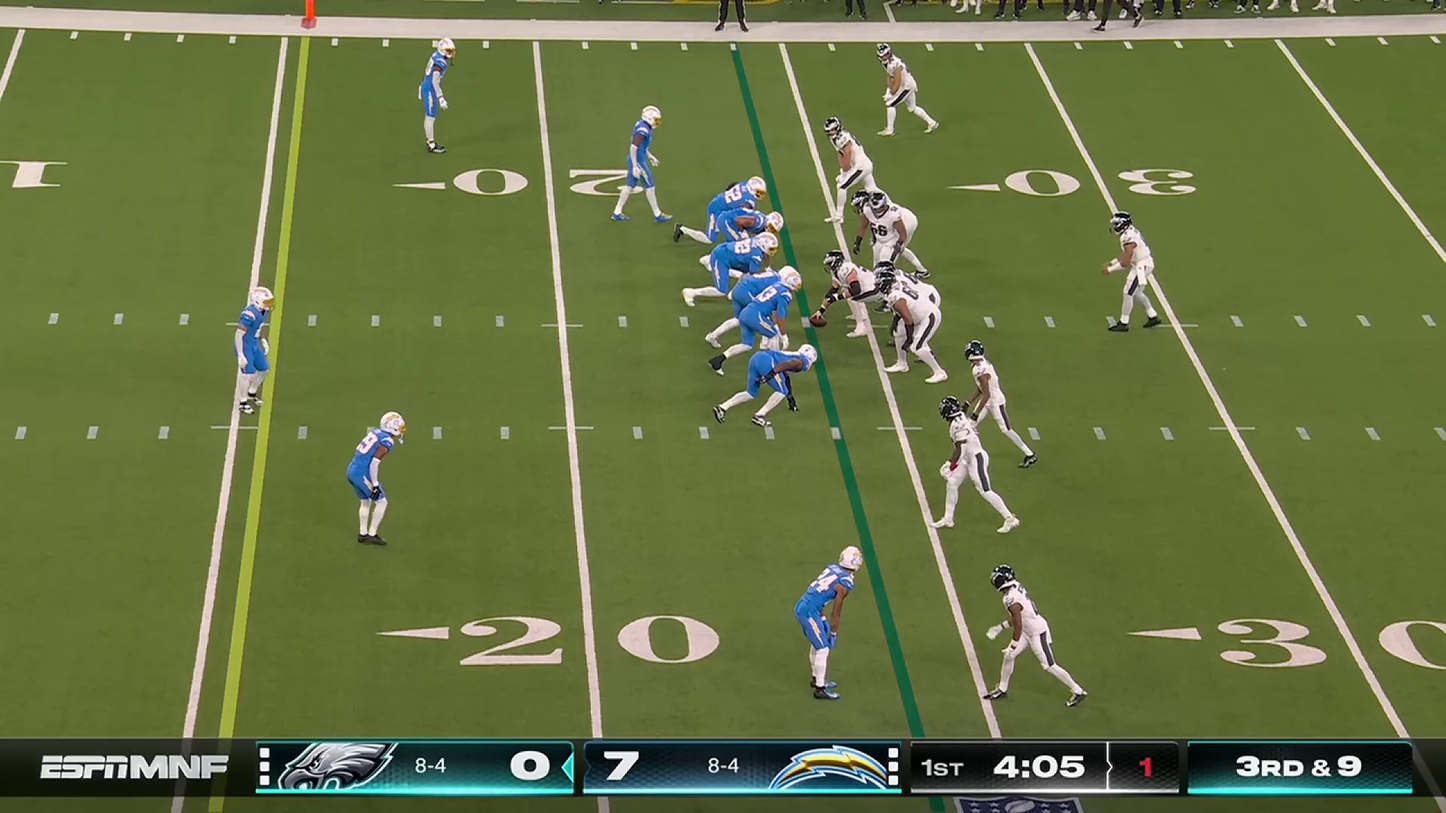ball: (808, 312, 830, 330)
player: (792, 541, 865, 705), (1097, 204, 1174, 341), (983, 564, 1057, 704), (940, 403, 1015, 532), (344, 411, 397, 550), (231, 284, 281, 418), (873, 40, 937, 143), (876, 275, 934, 386), (964, 341, 1021, 452), (748, 347, 817, 428), (416, 37, 457, 154), (676, 179, 767, 231), (625, 108, 661, 216), (823, 123, 875, 195), (736, 282, 789, 352), (826, 252, 873, 323), (710, 209, 789, 249), (710, 241, 777, 287), (847, 190, 919, 231), (869, 198, 903, 265), (884, 268, 941, 302), (734, 267, 796, 297)
